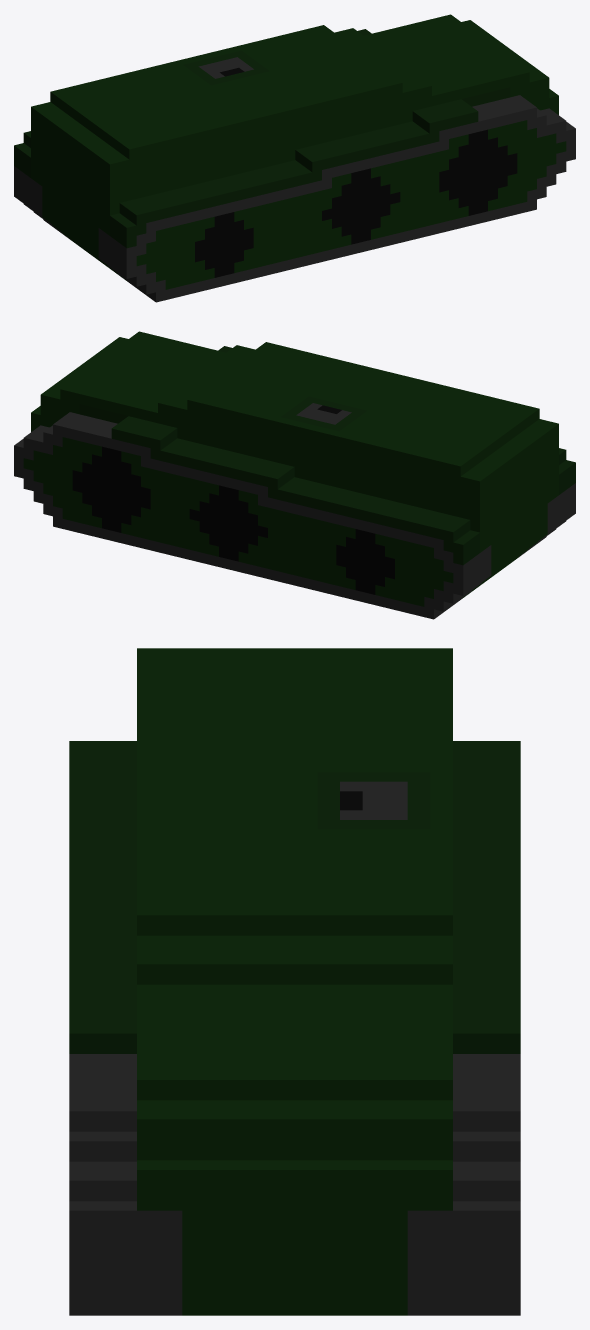
The model's file is TankSniperBody.obj.
3 renders of one model, top to bottom at view 1: azimuth 30°, elevation 25°; view 2: azimuth 150°, elevation 25°; view 3: azimuth 270°, elevation 25°, orthographic. The views are drawn at different scales.
Size of the model in its own units: 4.6 by 1.4 by 2.
Materials: 1 (1 with a texture image).
